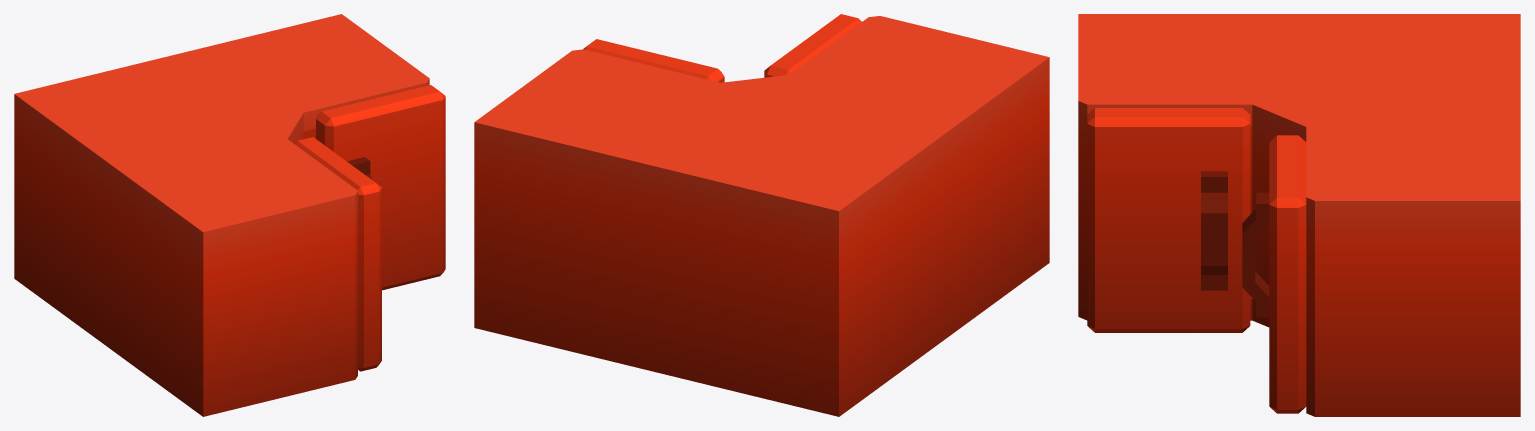
The model's file is Cabinet_01_Corner_C04.fbx.
3 renders of one model, left to right at view 1: azimuth 30°, elevation 25°; view 2: azimuth 150°, elevation 25°; view 3: azimuth 270°, elevation 25°, orthographic. The views are drawn at different scales.
Parts seen in each view (by area): view 1: Cabinet_01_Corner_C04, Cabinet_01_Corner_C04_Door_L, Cabinet_01_Corner_C04_Door_R; view 2: Cabinet_01_Corner_C04, Cabinet_01_Corner_C04_Door_R, Cabinet_01_Corner_C04_Door_L; view 3: Cabinet_01_Corner_C04, Cabinet_01_Corner_C04_Door_R, Cabinet_01_Corner_C04_Door_L.
Part boxes in pixels (x1,y1,x2,y2): Cabinet_01_Corner_C04: [14, 14, 429, 416]; Cabinet_01_Corner_C04_Door_L: [316, 85, 445, 290]; Cabinet_01_Corner_C04_Door_R: [294, 137, 381, 371]; Cabinet_01_Corner_C04: [474, 16, 1049, 416]; Cabinet_01_Corner_C04_Door_R: [764, 14, 861, 77]; Cabinet_01_Corner_C04_Door_L: [583, 39, 724, 82]; Cabinet_01_Corner_C04: [1078, 14, 1520, 416]; Cabinet_01_Corner_C04_Door_R: [1087, 108, 1250, 332]; Cabinet_01_Corner_C04_Door_L: [1242, 135, 1306, 413].
Size of the model in its own units: 100 by 53.91 by 100.
